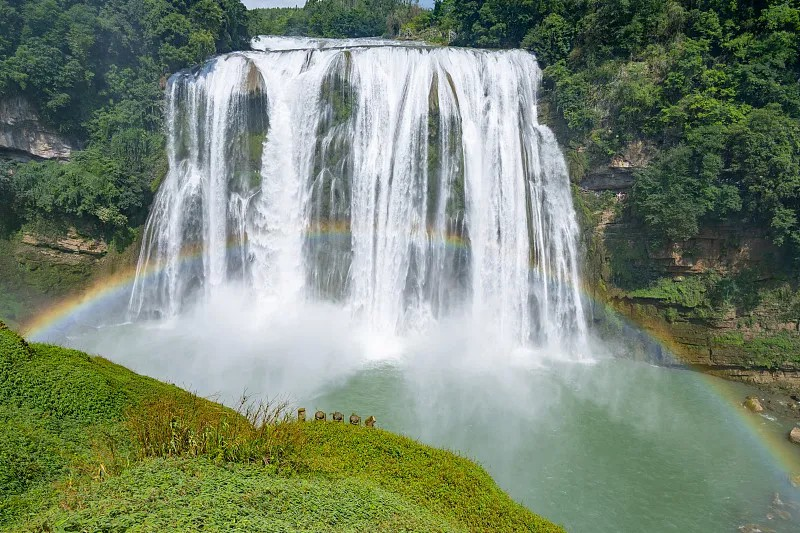Huangguoshu: (130, 35, 596, 359)
